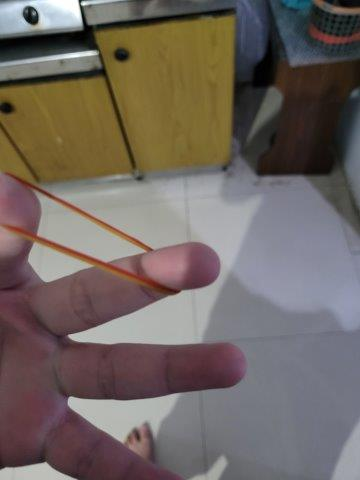karet: (1, 173, 182, 294)
